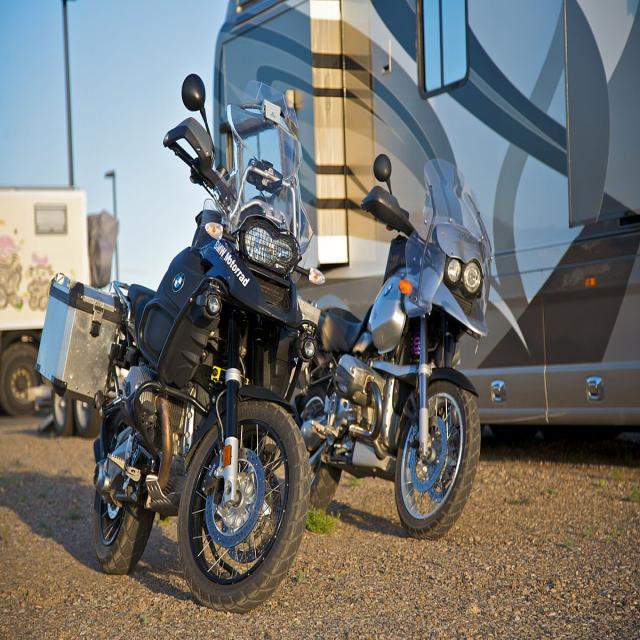Motorcycle: (36, 82, 322, 612), (295, 153, 492, 540)
